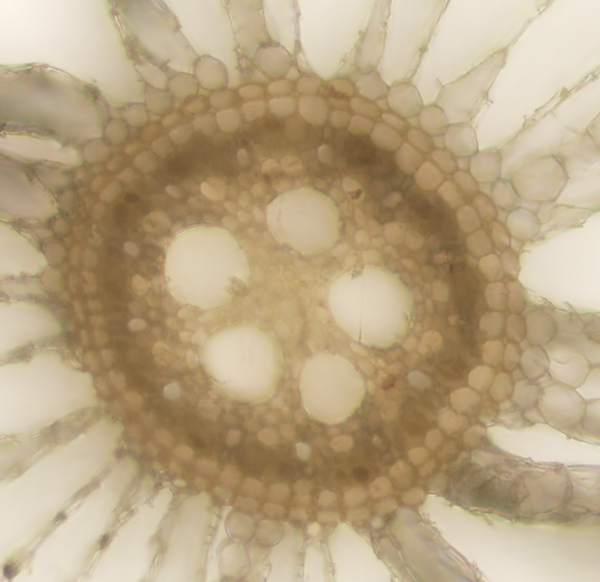lm: (162, 223, 251, 310), (328, 263, 413, 348), (201, 321, 282, 402), (264, 187, 343, 256), (299, 351, 365, 425)
